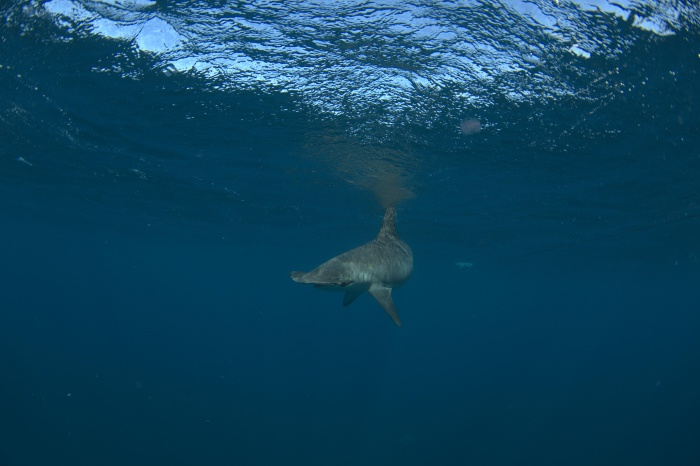Hammer: (282, 203, 446, 328)
